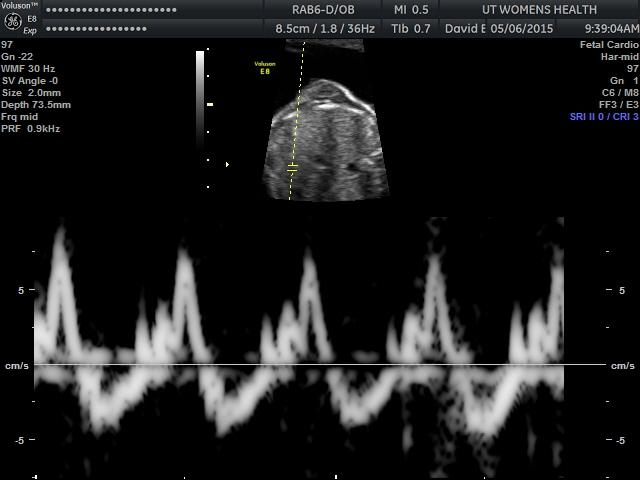Ultrasound-Waves: (35, 217, 565, 469)
